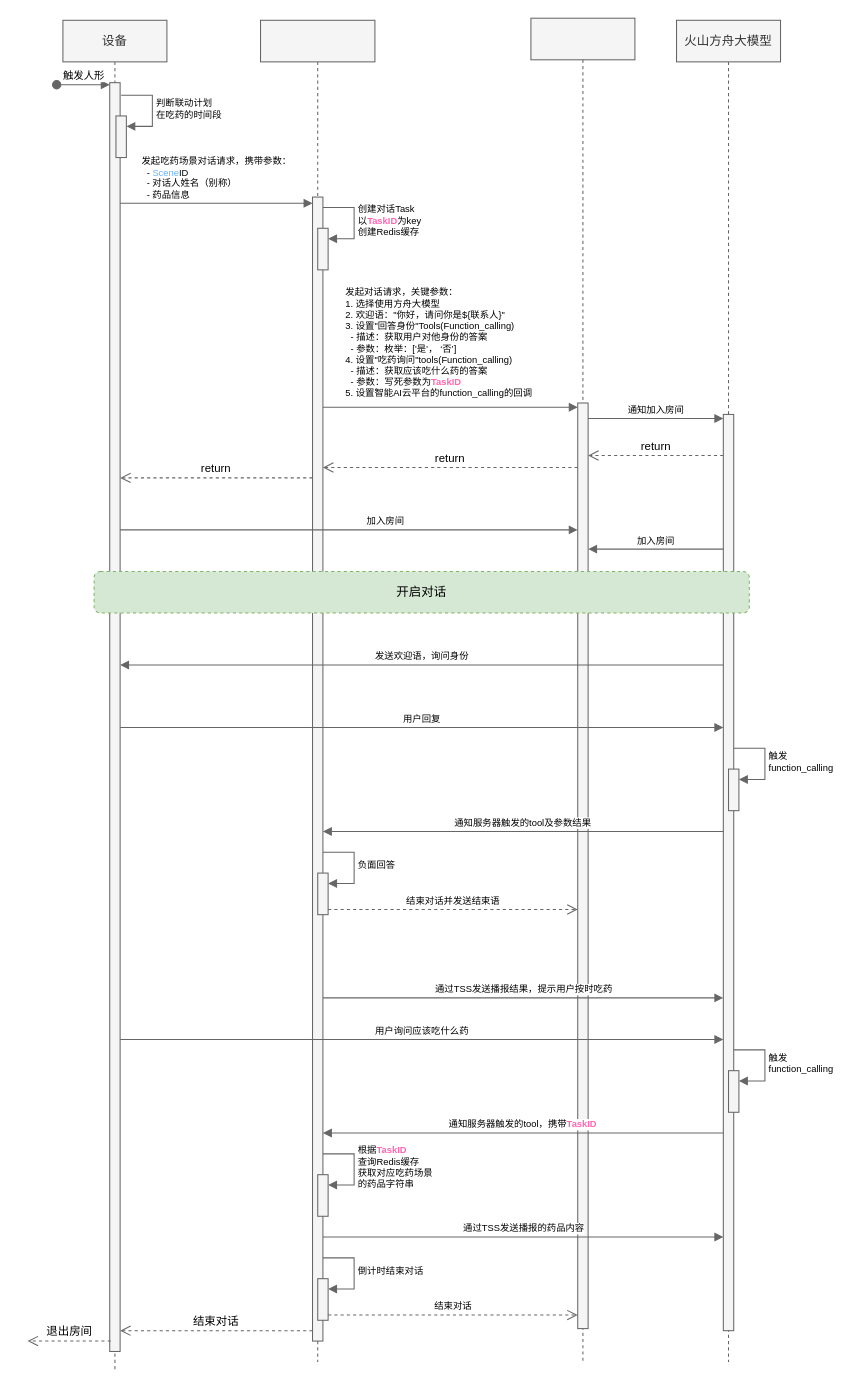
Some shapes in this 852 by 1390 pixel diagram are drawn without their labels. Each missing label, with the box of its shape:
智能AI云平台: (259, 19, 375, 1362)
火山RTC: (530, 17, 635, 1362)
